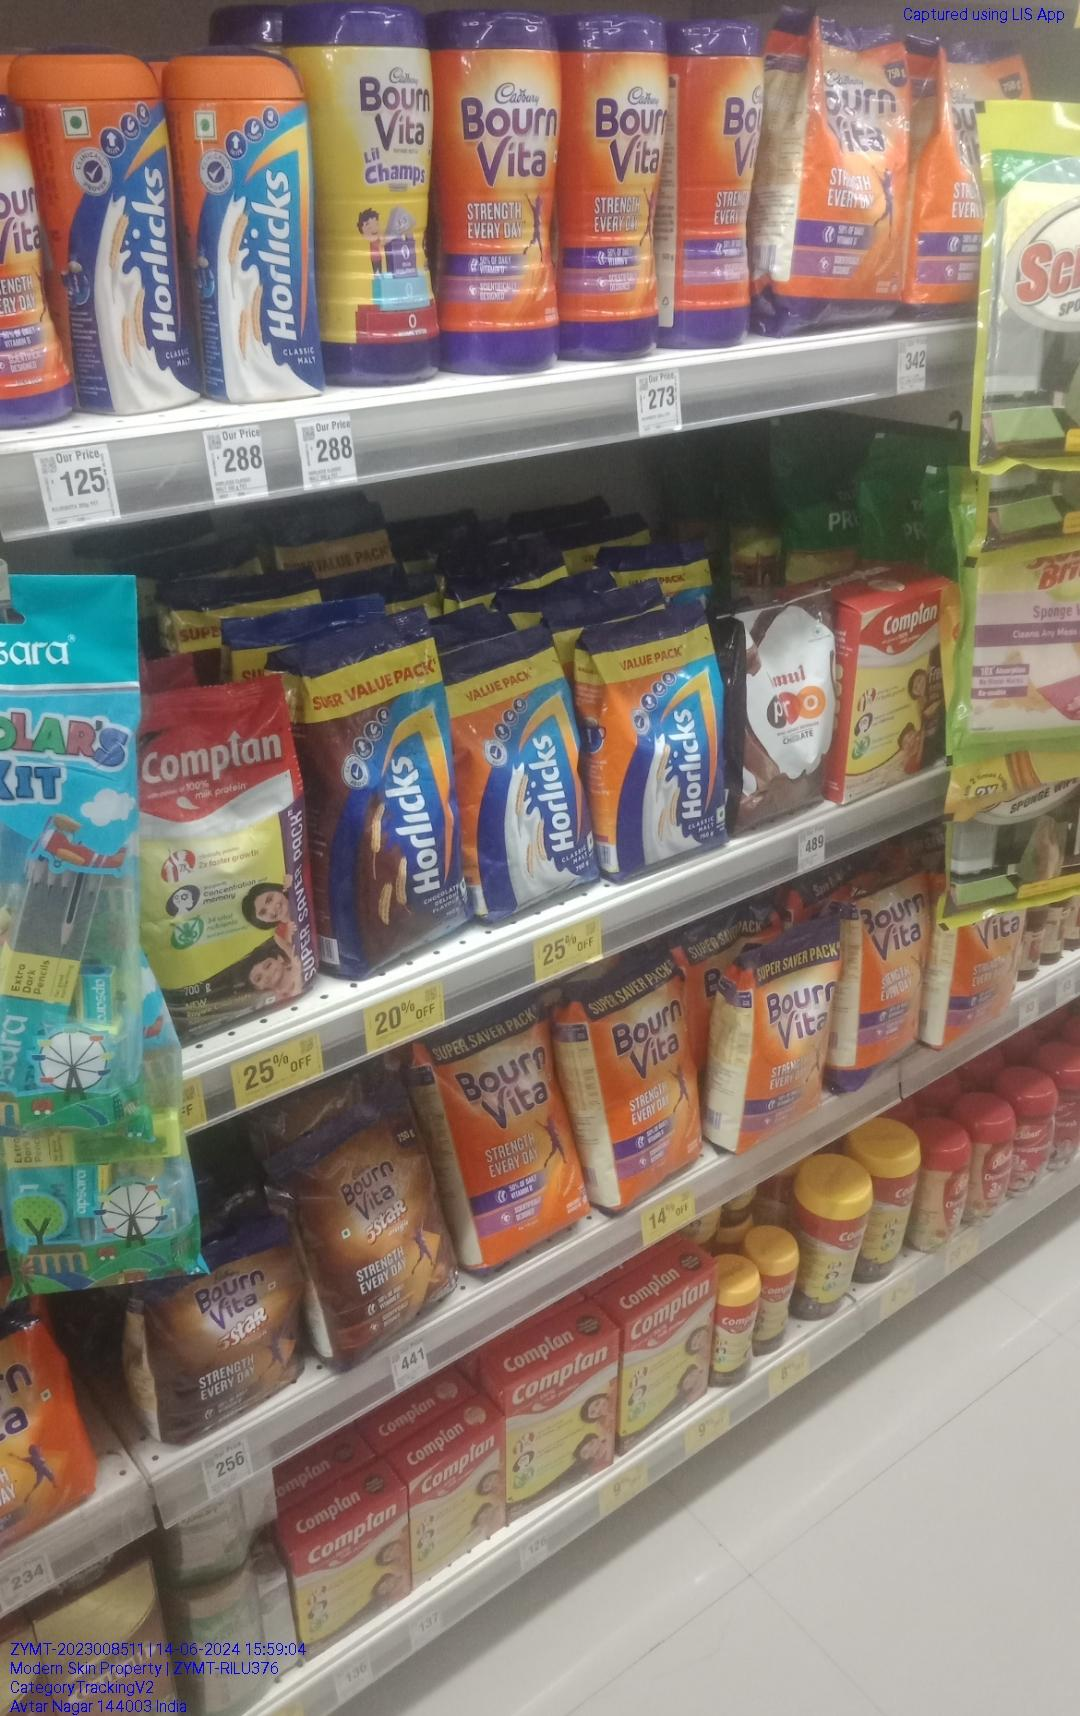BOURN_VITA_1_KG_JAR: (437, 12, 555, 372), (562, 15, 677, 368), (674, 19, 765, 353)
BOURN_VITA_1_KG_POUCH: (449, 1012, 584, 1274), (586, 964, 697, 1203), (740, 931, 845, 1144), (860, 880, 934, 1088)
BOURN_VITA_CHAMPS_500_G_JAR: (326, 10, 435, 391)
BOURN_VITA_FIVE_STAR_MAGIC_500_G_POUCH: (167, 1231, 292, 1437)
BOURN_VITA_FIVE_STAR_MAGIC_750_G_POUCH: (307, 1109, 442, 1353)
COMPLAN_CHOCOLATE_200_GMS_JAR: (715, 1279, 756, 1386), (761, 1251, 799, 1353)
COMPLAN_CHOCOLATE_200_GMS_PACK: (295, 1504, 409, 1639)
COMPLAN_KESAR_BADAM_200_GMS_PACK: (408, 1451, 505, 1568)
COMPLAN_RC_POUCH_700_GMS_12: (146, 683, 314, 1032)
HORLICK_CLASSIC_MALT_500_G_JAR: (188, 51, 317, 403), (60, 47, 183, 412)
HORLICK_CLASSIC_MALT_750_G_POUCH: (600, 628, 730, 872), (467, 657, 584, 917)
